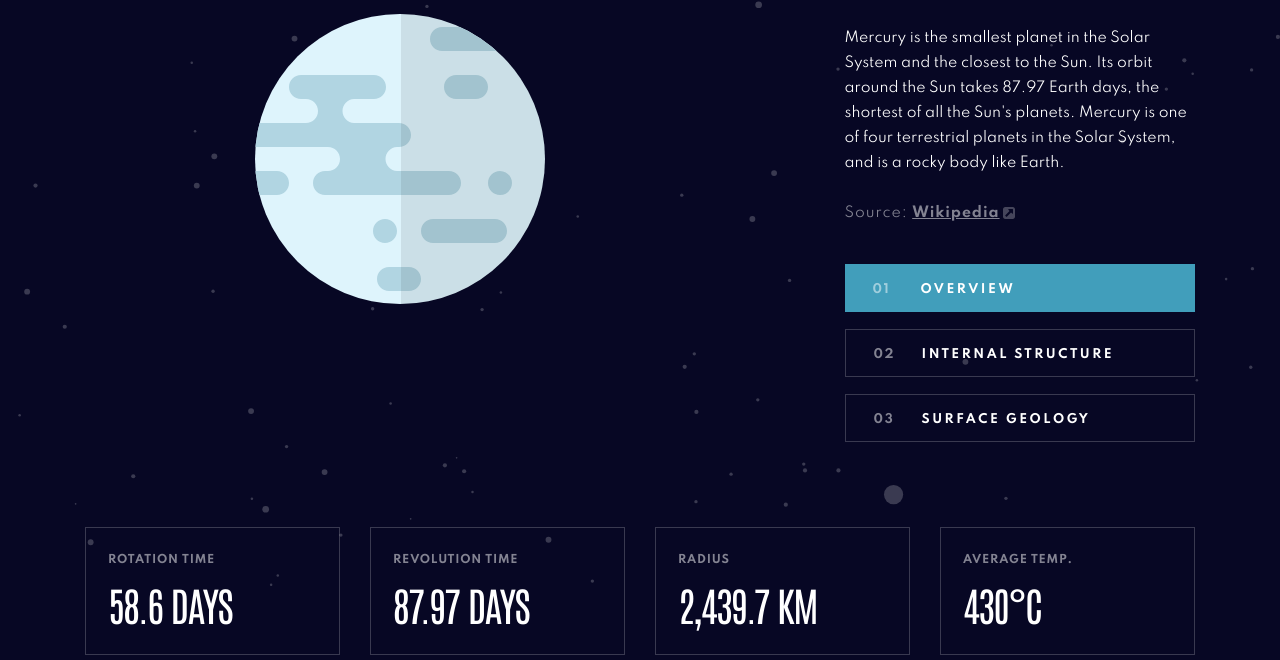
switching content on a planet page › switch to geology content
This screenshot has width=1280, height=660.
(page scrolled)
Click the button with test id "geologyButton".
click(1021, 418)  # box x1=845 y1=394 x2=1196 y2=442
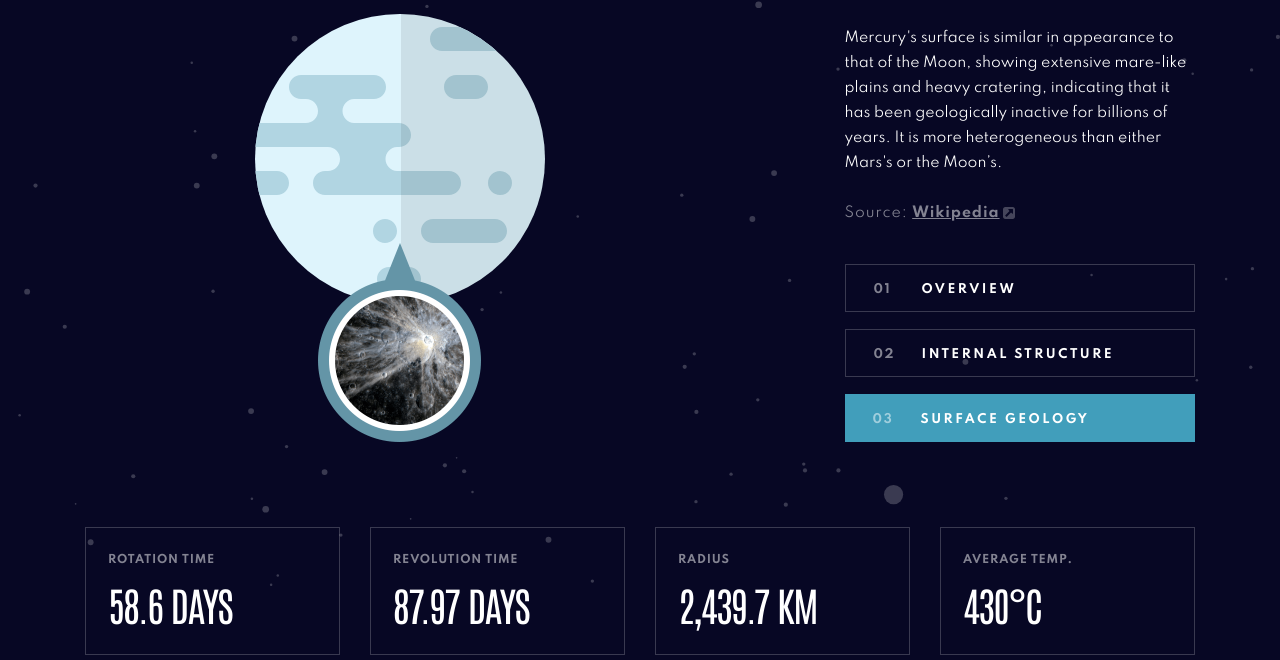
Expected: the picture with test id "geologyImage" is shown, x1=318 y1=243 x2=481 y2=442
